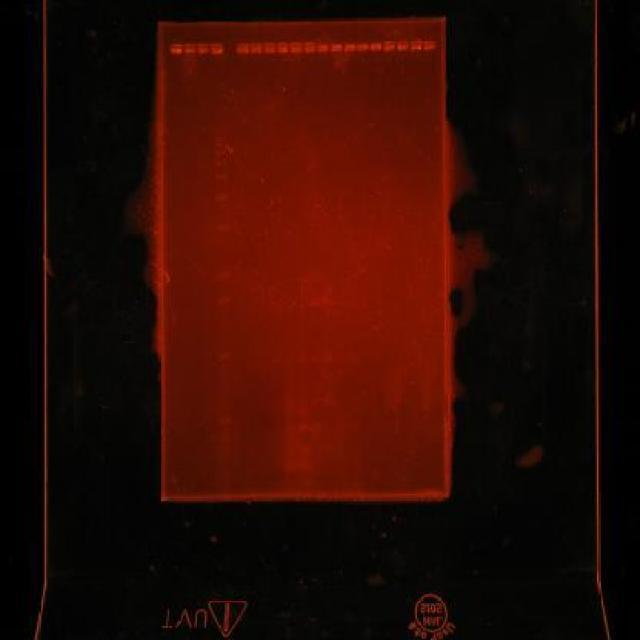B: (283, 458, 297, 473), (298, 458, 312, 472), (320, 351, 334, 364), (346, 350, 359, 364), (322, 394, 336, 406), (334, 350, 346, 362), (298, 420, 310, 432), (308, 353, 321, 364), (296, 354, 310, 364), (268, 357, 282, 366), (283, 356, 297, 364), (284, 424, 296, 433)
L: (166, 39, 440, 56)
M: (212, 104, 234, 470)
P: (216, 454, 232, 464), (217, 416, 232, 426), (217, 444, 231, 454), (217, 270, 231, 279), (218, 352, 232, 361), (218, 434, 232, 443), (216, 172, 230, 180), (216, 192, 230, 200), (216, 223, 230, 231), (217, 296, 231, 304), (215, 148, 228, 156), (214, 160, 228, 166), (214, 142, 228, 147), (215, 133, 228, 138), (215, 125, 228, 130), (214, 138, 228, 142), (214, 130, 228, 133)
Pc: (210, 41, 224, 56), (262, 41, 276, 54), (276, 41, 290, 54), (303, 41, 317, 54), (396, 39, 409, 52), (410, 38, 422, 52), (290, 40, 302, 54), (250, 42, 262, 55), (424, 39, 436, 52), (196, 43, 210, 54), (236, 43, 250, 54), (383, 40, 397, 51), (356, 42, 369, 53), (316, 42, 329, 53), (169, 44, 183, 54), (183, 44, 197, 54), (330, 42, 342, 53), (370, 42, 382, 52), (344, 42, 356, 52)
